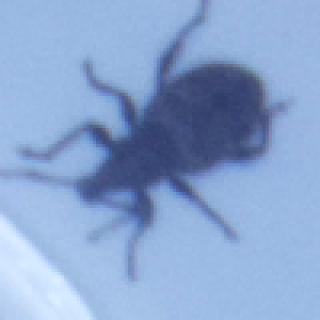bvw: (6, 1, 288, 282)
